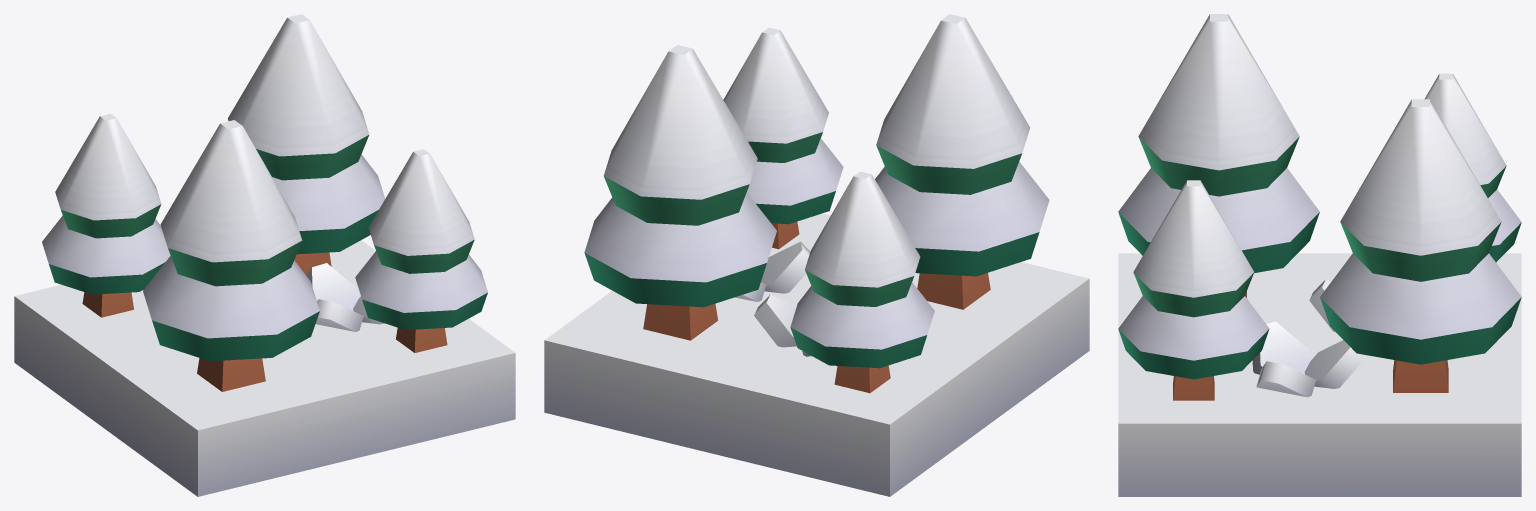
Rendered from snow-tile-tree-quad.glb.
The picture shows the model from 3 angles, left to right: view 1: azimuth 30°, elevation 25°; view 2: azimuth 150°, elevation 25°; view 3: azimuth 270°, elevation 25°; orthographic projection. The views are drawn at different scales.
Visible parts, largest first — view 1: snow-tile-tree-quad; view 2: snow-tile-tree-quad; view 3: snow-tile-tree-quad.
Part boxes in pixels (box(x1,y1,x2,y2)): snow-tile-tree-quad: box(14, 14, 515, 496); snow-tile-tree-quad: box(544, 14, 1089, 496); snow-tile-tree-quad: box(1118, 14, 1521, 496).
Size of the model in its own units: 1 by 0.96 by 1.
1 material, 1 textured.
